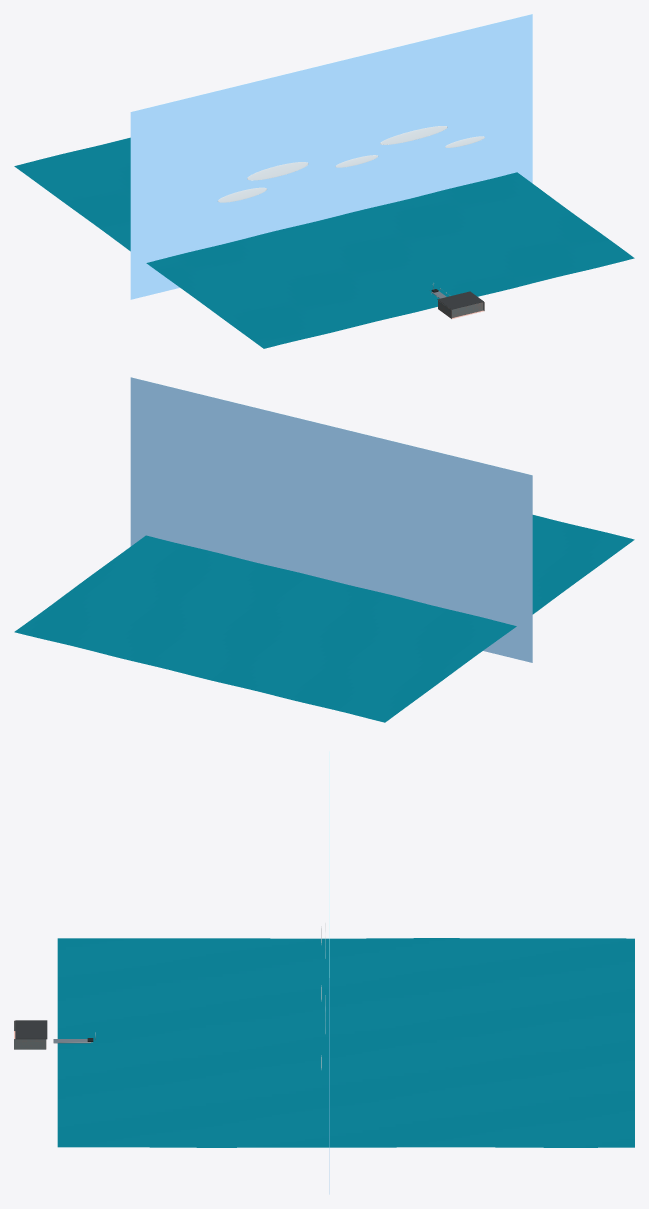
File: ModernBridgeCockpit_VR_v1.3.glb
3 views of the same model, one above another, from view 1: azimuth 30°, elevation 25°; view 2: azimuth 150°, elevation 25°; view 3: azimuth 270°, elevation 25° (orthographic). The views are drawn at different scales.
Visible parts, largest first — view 1: environment_sky_backdrop, environment_ocean_wave_preview, environment_cloud_soft_puff_1, environment_cloud_soft_puff_3, bridge_ceiling_panel; view 2: environment_sky_backdrop, environment_ocean_wave_preview; view 3: environment_ocean_wave_preview, bridge_ceiling_panel.
Part boxes in pixels (left/top/right/bottom): environment_sky_backdrop: left=130, top=14, right=532, bottom=299; environment_ocean_wave_preview: left=14, top=137, right=634, bottom=348; environment_cloud_soft_puff_1: left=247, top=162, right=308, bottom=180; environment_cloud_soft_puff_3: left=380, top=126, right=447, bottom=144; bridge_ceiling_panel: left=437, top=291, right=483, bottom=309; environment_sky_backdrop: left=130, top=377, right=532, bottom=662; environment_ocean_wave_preview: left=14, top=515, right=634, bottom=722; environment_ocean_wave_preview: left=57, top=938, right=634, bottom=1147; bridge_ceiling_panel: left=15, top=1020, right=47, bottom=1039.
Size of what is drawn, in the model's own units: 130 by 58 by 151.
